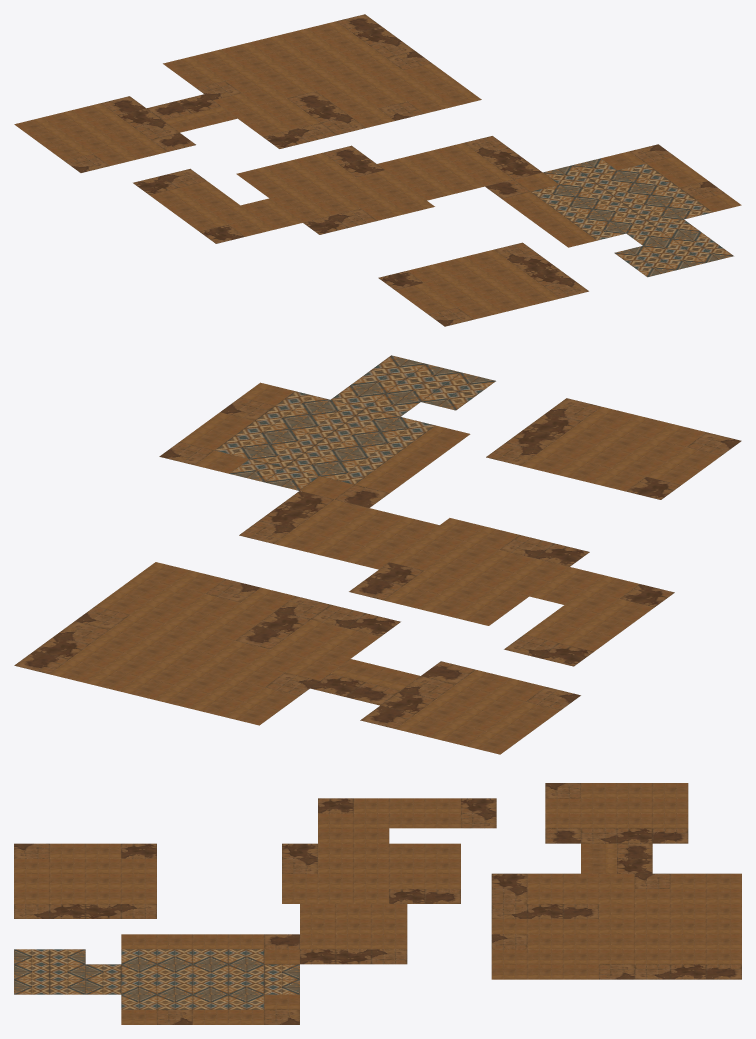
Rendered from Pyramid_Grave1F_all.FBX.
The picture shows the model from 3 angles, top to bottom: view 1: azimuth 30°, elevation 25°; view 2: azimuth 150°, elevation 25°; view 3: azimuth 270°, elevation 25°; orthographic projection. The views are drawn at different scales.
Parts seen in each view (by area): view 1: Pyramid_Grave1F06, Pyramid_Grave1F04, Pyramid_Grave1F03, Pyramid_Grave1F01, Pyramid_Grave1F05, Pyramid_Grave1F02; view 2: Pyramid_Grave1F06, Pyramid_Grave1F04, Pyramid_Grave1F03, Pyramid_Grave1F01, Pyramid_Grave1F05, Pyramid_Grave1F02; view 3: Pyramid_Grave1F06, Pyramid_Grave1F04, Pyramid_Grave1F03, Pyramid_Grave1F01, Pyramid_Grave1F05, Pyramid_Grave1F02.
Boxes of the visible parts, left/top/right/bottom form: Pyramid_Grave1F06: left=14, top=14, right=481, bottom=172; Pyramid_Grave1F04: left=236, top=136, right=542, bottom=234; Pyramid_Grave1F03: left=485, top=144, right=741, bottom=247; Pyramid_Grave1F01: left=378, top=242, right=588, bottom=326; Pyramid_Grave1F05: left=133, top=168, right=302, bottom=243; Pyramid_Grave1F02: left=614, top=231, right=733, bottom=277; Pyramid_Grave1F06: left=14, top=562, right=580, bottom=754; Pyramid_Grave1F04: left=239, top=491, right=589, bottom=625; Pyramid_Grave1F03: left=159, top=382, right=470, bottom=507; Pyramid_Grave1F01: left=486, top=398, right=741, bottom=499; Pyramid_Grave1F05: left=504, top=567, right=674, bottom=666; Pyramid_Grave1F02: left=351, top=355, right=495, bottom=410; Pyramid_Grave1F06: left=491, top=783, right=741, bottom=979; Pyramid_Grave1F04: left=282, top=843, right=460, bottom=964; Pyramid_Grave1F03: left=85, top=934, right=299, bottom=1024; Pyramid_Grave1F01: left=14, top=843, right=156, bottom=918; Pyramid_Grave1F05: left=318, top=798, right=496, bottom=843; Pyramid_Grave1F02: left=14, top=949, right=85, bottom=994.
Size of the model in its own units: 64 by 7.79e-07 by 81.45.
